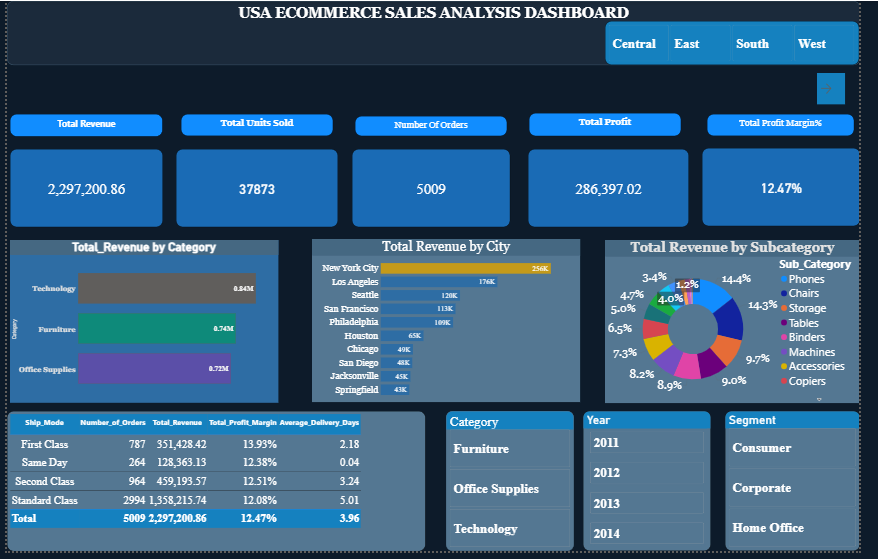

This screenshot's page, from the dashboard's own definition file:
{"tool":"powerbi","page":{"name":"Page 1","canvas":[3100,2000],"ordinal":0},"visuals":[{"type":"card","fields":{"Values":["Measure Table.Total_Revenue"]},"box":[10.9,538.2,556.4,283.6],"z":0},{"type":"textbox","box":[0,0,3102,232.7],"z":1},{"type":"card","fields":{"Values":["Measure Table.Total_Quantity"]},"box":[614.5,538.2,589.1,283.6],"z":2},{"type":"card","fields":{"Values":["Measure Table.Number_of_Orders"]},"box":[1254.5,538.2,574.5,283.6],"z":3},{"type":"card","fields":{"Values":["Measure Table.Total_Profit"]},"box":[1894.5,538.2,585.5,283.6],"z":4},{"type":"card","fields":{"Values":["Measure Table.Total_Profit_Margin"]},"box":[2527.3,534.5,574.5,283.6],"z":5},{"type":"textbox","box":[12.2,412.2,555.1,81.6],"z":6},{"type":"textbox","box":[632.7,410.9,552.7,80],"z":7},{"type":"textbox","box":[1265.5,418.2,552.7,72.7],"z":8},{"type":"textbox","box":[1898.2,407.3,552.7,83.6],"z":9},{"type":"textbox","box":[2545.5,410.9,534.5,80],"z":10},{"type":"clusteredBarChart","fields":{"Category":["kalundusalestable.Category"],"Y":["Measure Table.Total_Revenue"]},"box":[12.2,869.4,975.5,591.8],"z":11},{"type":"clusteredBarChart","title":"Total Revenue by City","fields":{"Category":["kalundusalestable.City"],"Y":["Measure Table.Total_Revenue"]},"box":[1109.1,865.5,974.5,592.7],"z":15},{"type":"donutChart","title":"Total Revenue by Subcategory","fields":{"Category":["kalundusalestable.Sub_Category"],"Y":["Measure Table.Total_Revenue"]},"box":[2174.5,869.1,927.3,592.7],"z":16},{"type":"tableEx","fields":{"Values":["kalundusalestable.Ship_Mode","Measure Table.Number_of_Orders","Measure Table.Total_Revenue","Measure Table.Total_Profit_Margin","Measure Table.Average_Delivery_Days"]},"box":[0,1489.8,1522.4,510.2],"z":17},{"type":"advancedSlicerVisual","title":"Year","fields":{"Values":["kalundusalestable.Year_Num"]},"box":[2094.5,1490.9,465.5,509.1],"z":19},{"type":"advancedSlicerVisual","title":"Segment","fields":{"Values":["kalundusalestable.Segment"]},"box":[2610.9,1490.9,490.9,509.1],"z":20},{"type":"advancedSlicerVisual","title":"Category","fields":{"Values":["kalundusalestable.Category"]},"box":[1596.4,1490.9,465.5,509.1],"z":21},{"type":"actionButton","box":[2946.9,261.2,102,114.3],"z":22},{"type":"advancedSlicerVisual","title":"Region","fields":{"Values":["kalundusalestable.Region"]},"box":[2174.5,72.7,923.6,160],"z":23}]}

Visuals, with their boxes in screenshot pixels (x1, y1, x2, y2), scaled from the page's 3100x2000 canvas onto the 878x559 screenshot:
card - Measure Table.Total_Revenue: [x1=3, y1=150, x2=161, y2=230]
textbox: [x1=0, y1=0, x2=877, y2=65]
card - Measure Table.Total_Quantity: [x1=174, y1=150, x2=341, y2=230]
card - Measure Table.Number_of_Orders: [x1=355, y1=150, x2=518, y2=230]
card - Measure Table.Total_Profit: [x1=537, y1=150, x2=702, y2=230]
card - Measure Table.Total_Profit_Margin: [x1=716, y1=149, x2=877, y2=229]
textbox: [x1=3, y1=115, x2=161, y2=138]
textbox: [x1=179, y1=115, x2=336, y2=137]
textbox: [x1=358, y1=117, x2=515, y2=137]
textbox: [x1=538, y1=114, x2=694, y2=137]
textbox: [x1=721, y1=115, x2=872, y2=137]
clusteredBarChart - kalundusalestable.Category x Measure Table.Total_Revenue: [x1=3, y1=243, x2=280, y2=408]
"Total Revenue by City" clusteredBarChart: [x1=314, y1=242, x2=590, y2=408]
"Total Revenue by Subcategory" donutChart: [x1=616, y1=243, x2=877, y2=409]
tableEx - kalundusalestable.Ship_Mode x Measure Table.Number_of_Orders: [x1=0, y1=416, x2=431, y2=558]
"Year" advancedSlicerVisual: [x1=593, y1=417, x2=725, y2=558]
"Segment" advancedSlicerVisual: [x1=739, y1=417, x2=877, y2=558]
"Category" advancedSlicerVisual: [x1=452, y1=417, x2=584, y2=558]
actionButton: [x1=835, y1=73, x2=864, y2=105]
"Region" advancedSlicerVisual: [x1=616, y1=20, x2=877, y2=65]
